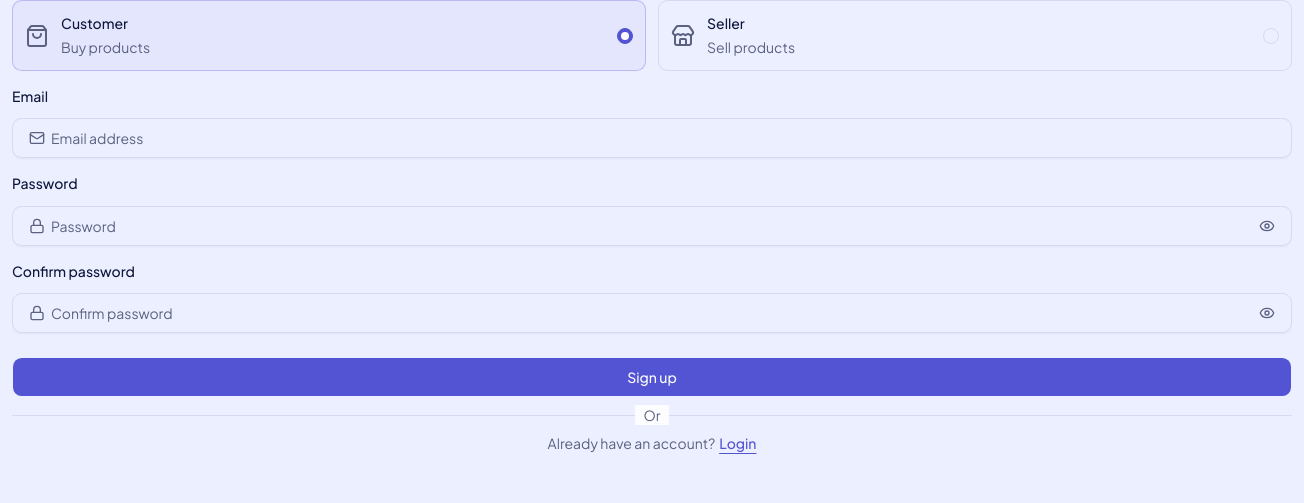
Test: RegisterForm › format email tidak valid: menampilkan pesan
In the field labelled "Email": (664, 138) [45,120,1283,156], type "bukan-email"
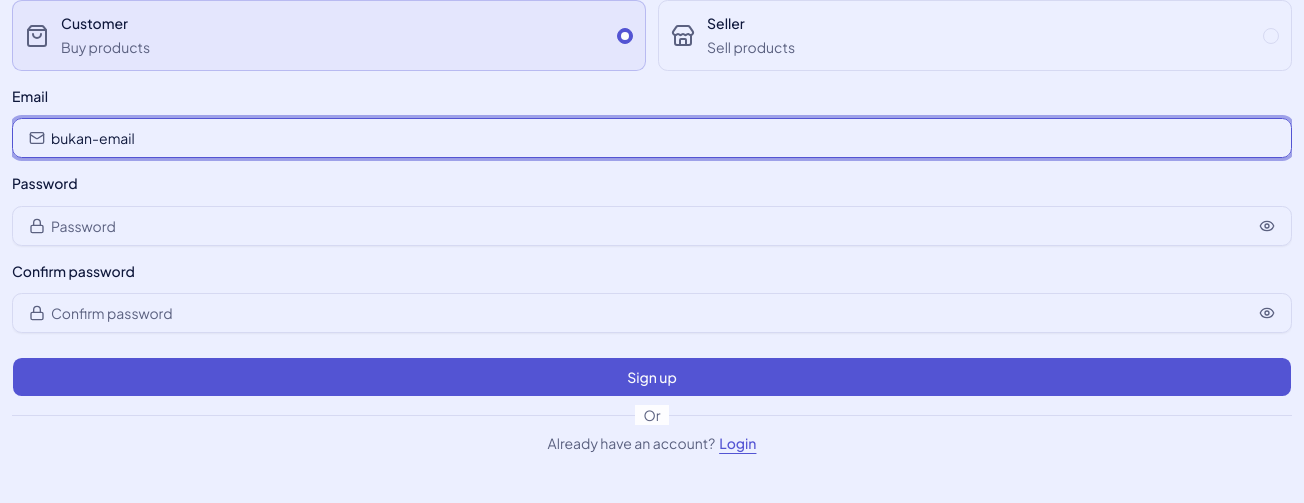
In the password field labelled "Password": (650, 226) [45,208,1255,244], type "password123"
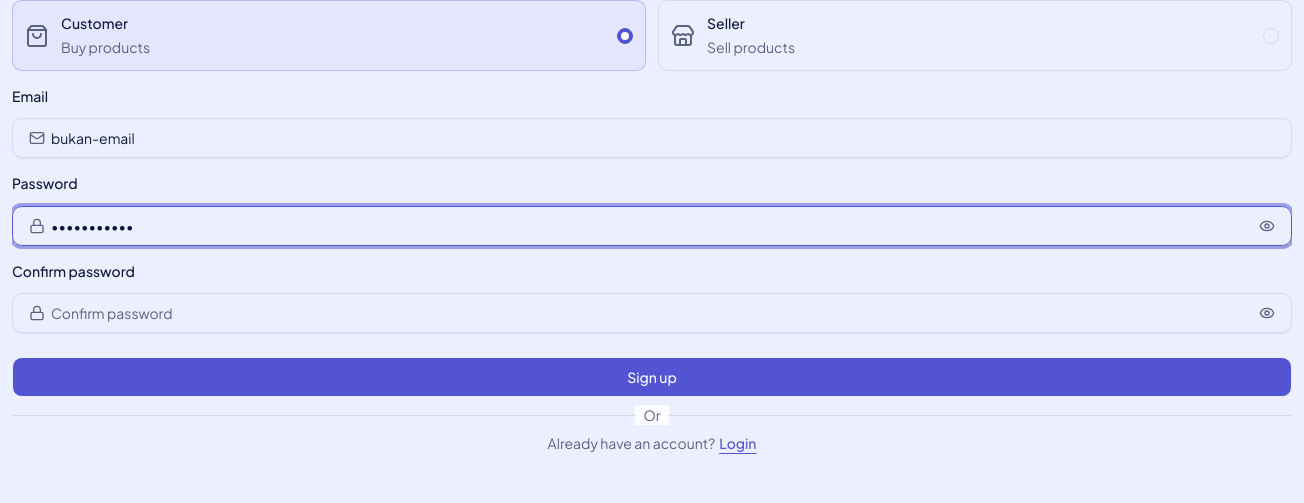
In the password field labelled "Confirm password": (650, 313) [45,295,1255,331], type "password123"
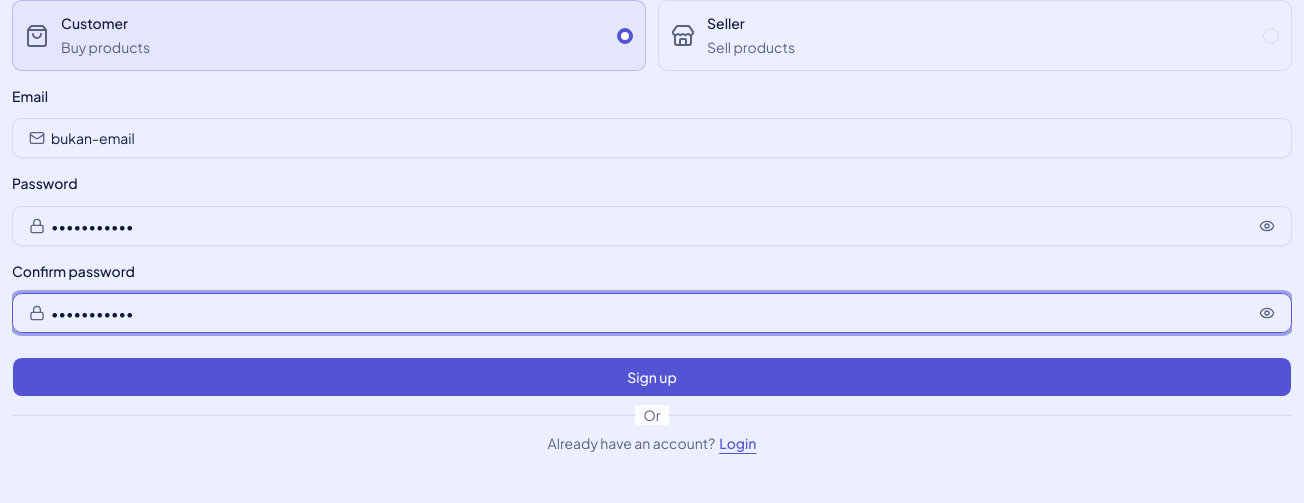
Click the button "Sign up": click(652, 377) [12,357,1292,397]
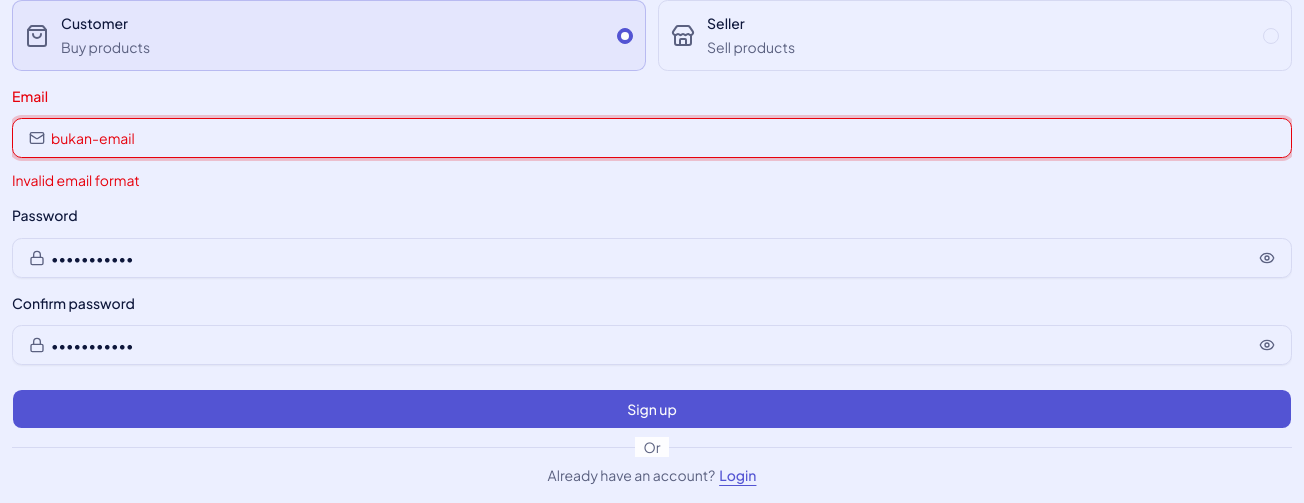
expect the text "Invalid email format" is shown: met, box [12,171,140,189]
